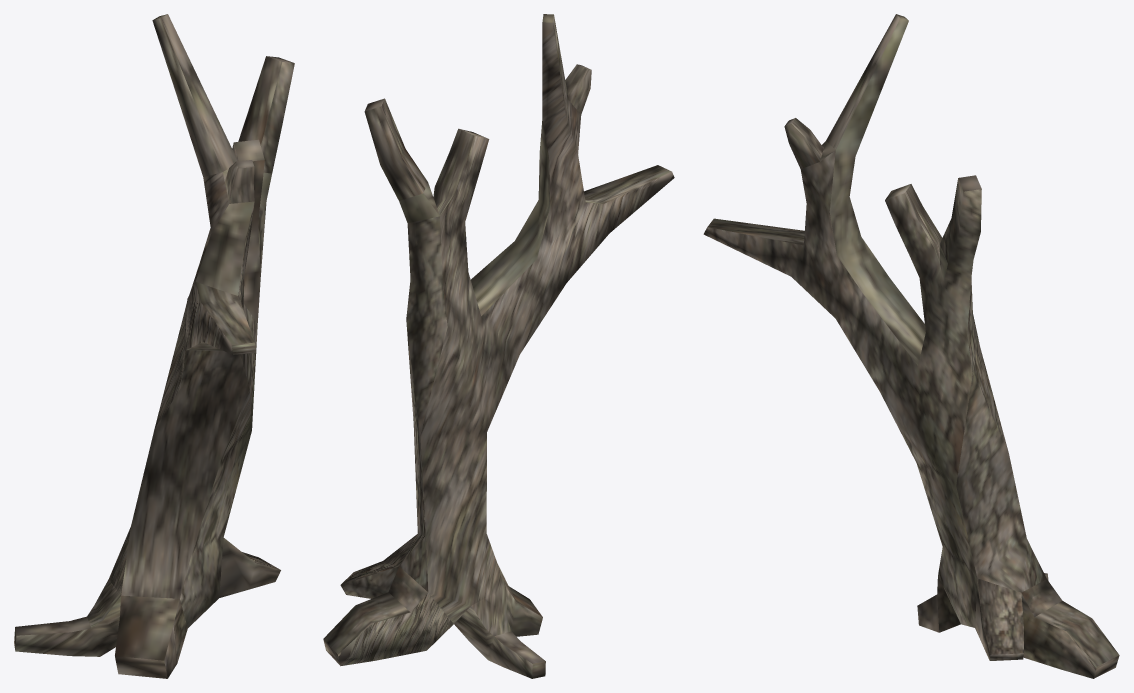
File: Arvore3Var1.fbx
The picture shows the model from 3 angles, left to right: view 1: azimuth 30°, elevation 25°; view 2: azimuth 150°, elevation 25°; view 3: azimuth 270°, elevation 25°; orthographic projection. The views are drawn at different scales.
Parts seen in each view (by area): view 1: Tronco4; view 2: Tronco4; view 3: Tronco4.
Boxes of the visible parts, x1,y1,x2,y2 form: Tronco4: [14, 14, 294, 678]; Tronco4: [323, 14, 674, 678]; Tronco4: [703, 14, 1119, 678].
Size of the model in its own units: 295 by 494 by 795.
